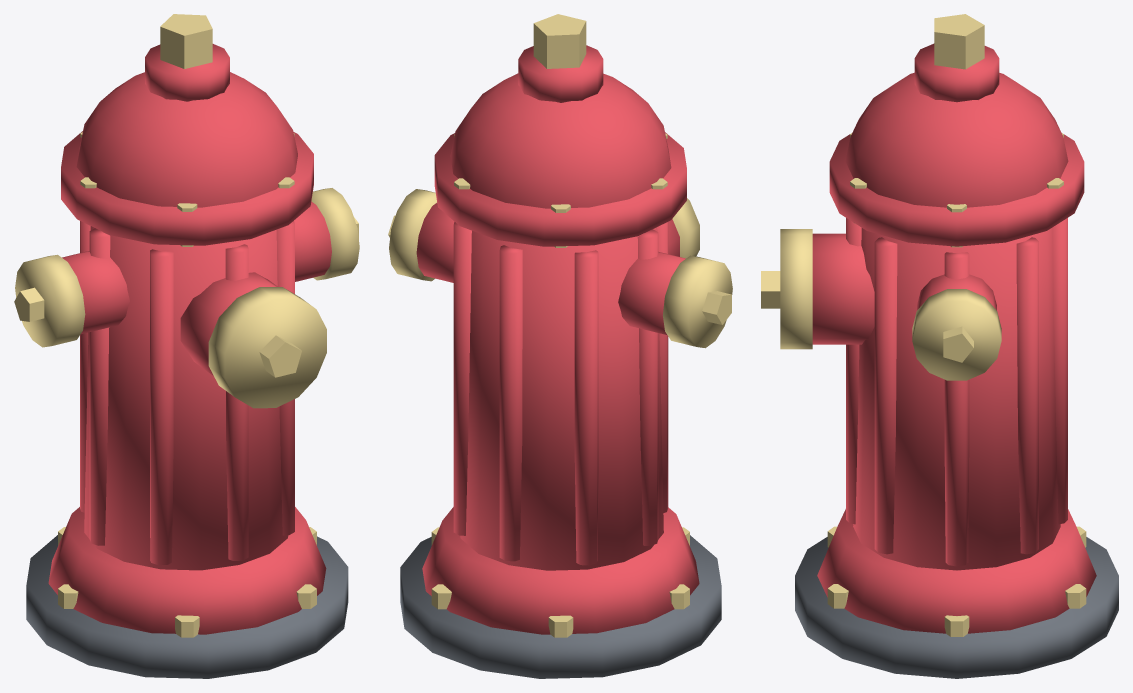
The model's file is prop_fire_hydrant.glb.
3 renders of one model, left to right at view 1: azimuth 30°, elevation 25°; view 2: azimuth 150°, elevation 25°; view 3: azimuth 270°, elevation 25°, orthographic.
Parts seen in each view (by area): view 1: BasePlate; view 2: BasePlate; view 3: BasePlate.
Part boxes in pixels (<box>): BasePlate: <box>14,14,359,678</box>; BasePlate: <box>388,14,732,678</box>; BasePlate: <box>761,14,1118,678</box>.
Bounding box in the file's own units: 0.492 × 0.8375 × 0.464.
